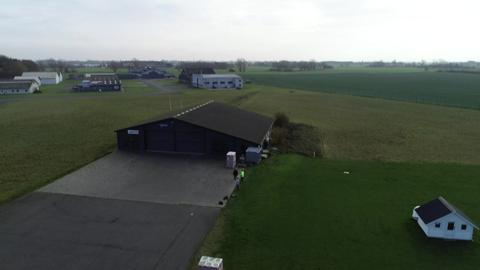RockwoolPallet: (226, 150, 237, 169)
